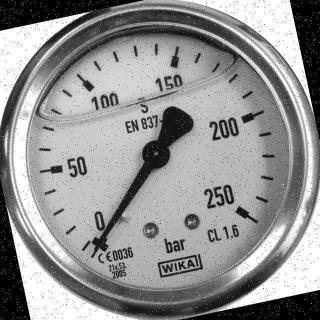gauge: (0, 0, 320, 320), (80, 215, 126, 263), (220, 190, 258, 229), (141, 138, 171, 170), (89, 240, 102, 256)
